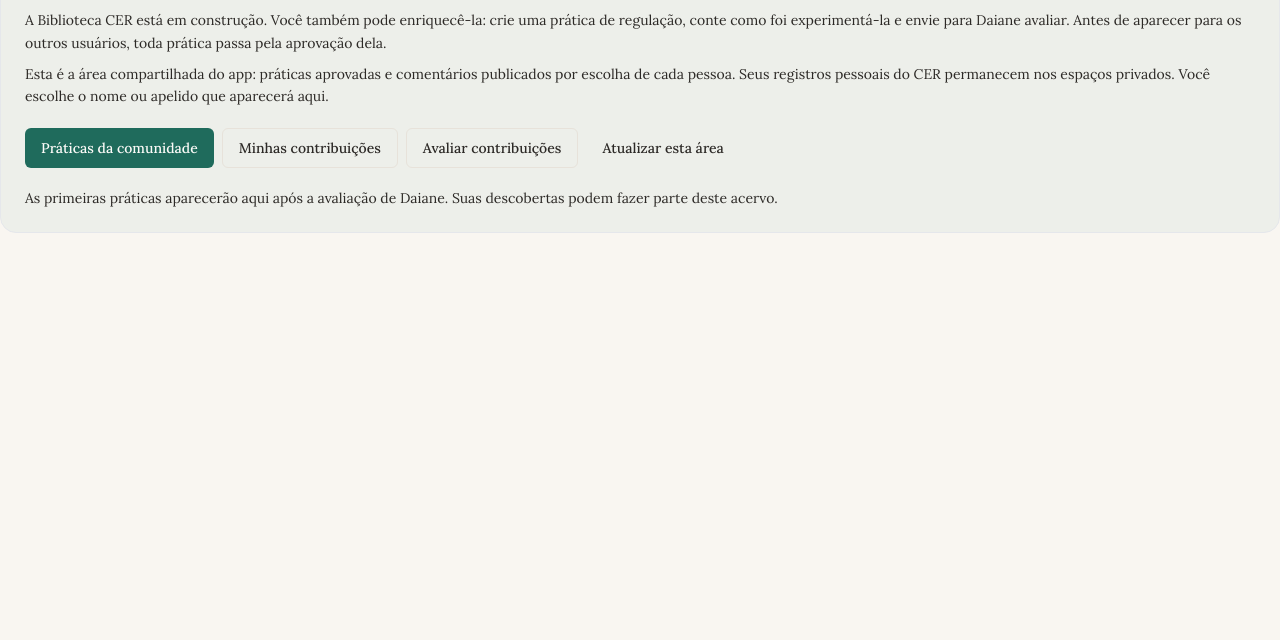
Test: curator reviews the exact content and confirms before publication
The image size is (1280, 640).
Step 1. Click the button "Avaliar contribuições" → click(492, 148), box [406,128,578,168]
(page scrolled)
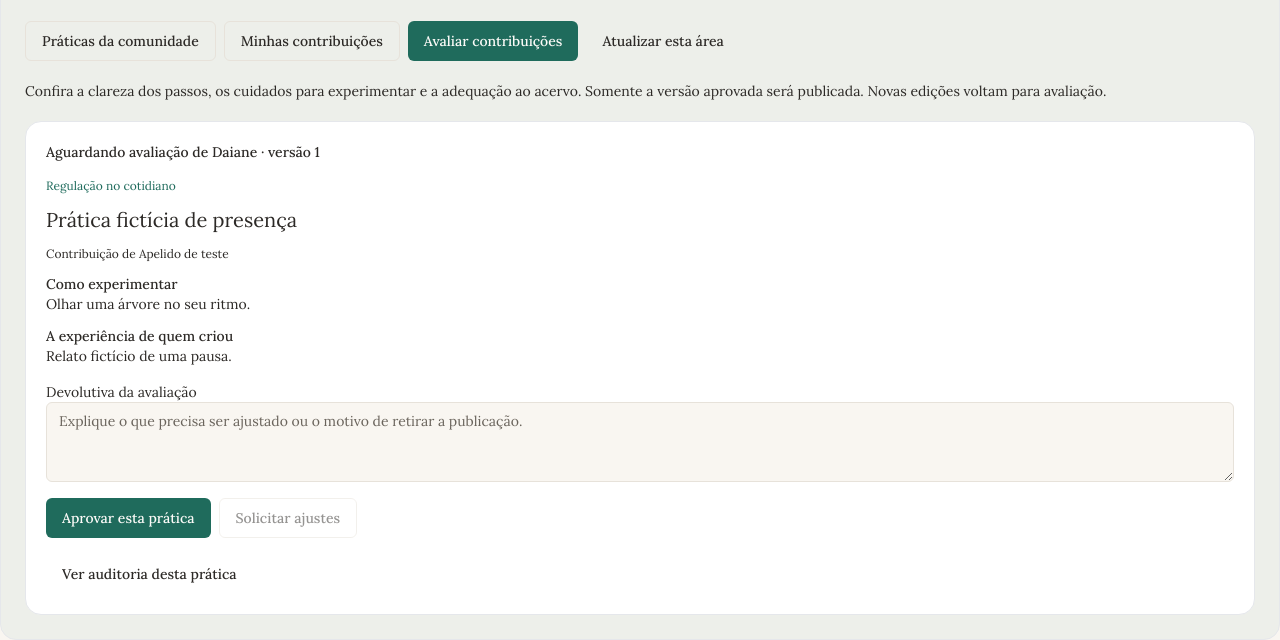
Now the heading "Prática fictícia de presença" is shown, box [46,207,297,232]
Step 2. Click the button "Aprovar esta prática" → click(128, 518), box [46,498,210,538]
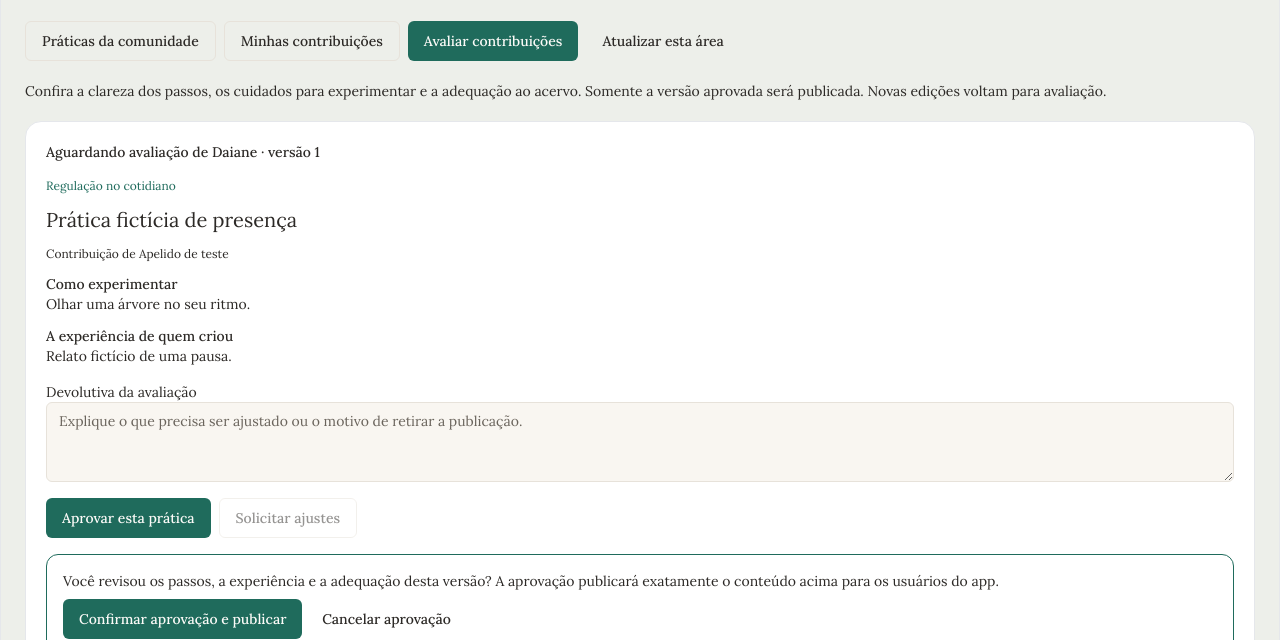
Step 3. Click the button "Confirmar aprovação e publicar" → click(183, 619), box [63,599,302,639]
(page scrolled)
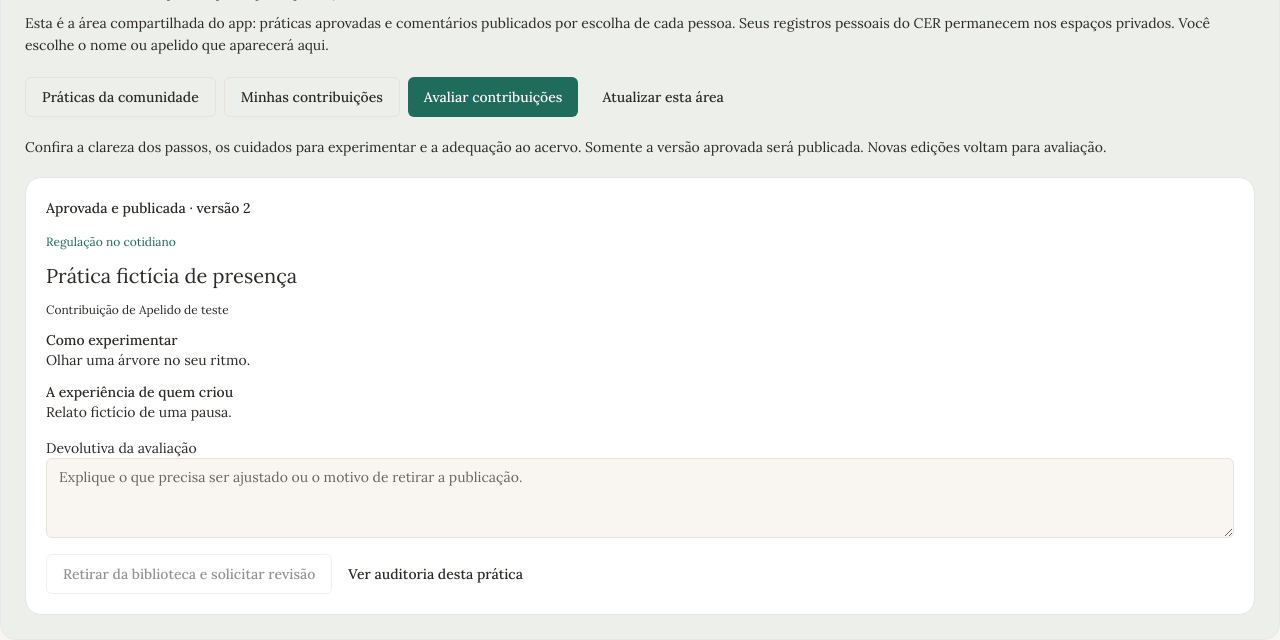
Now the text "Aprovada e publicada · versão 2" is shown, box [46,199,251,217]
